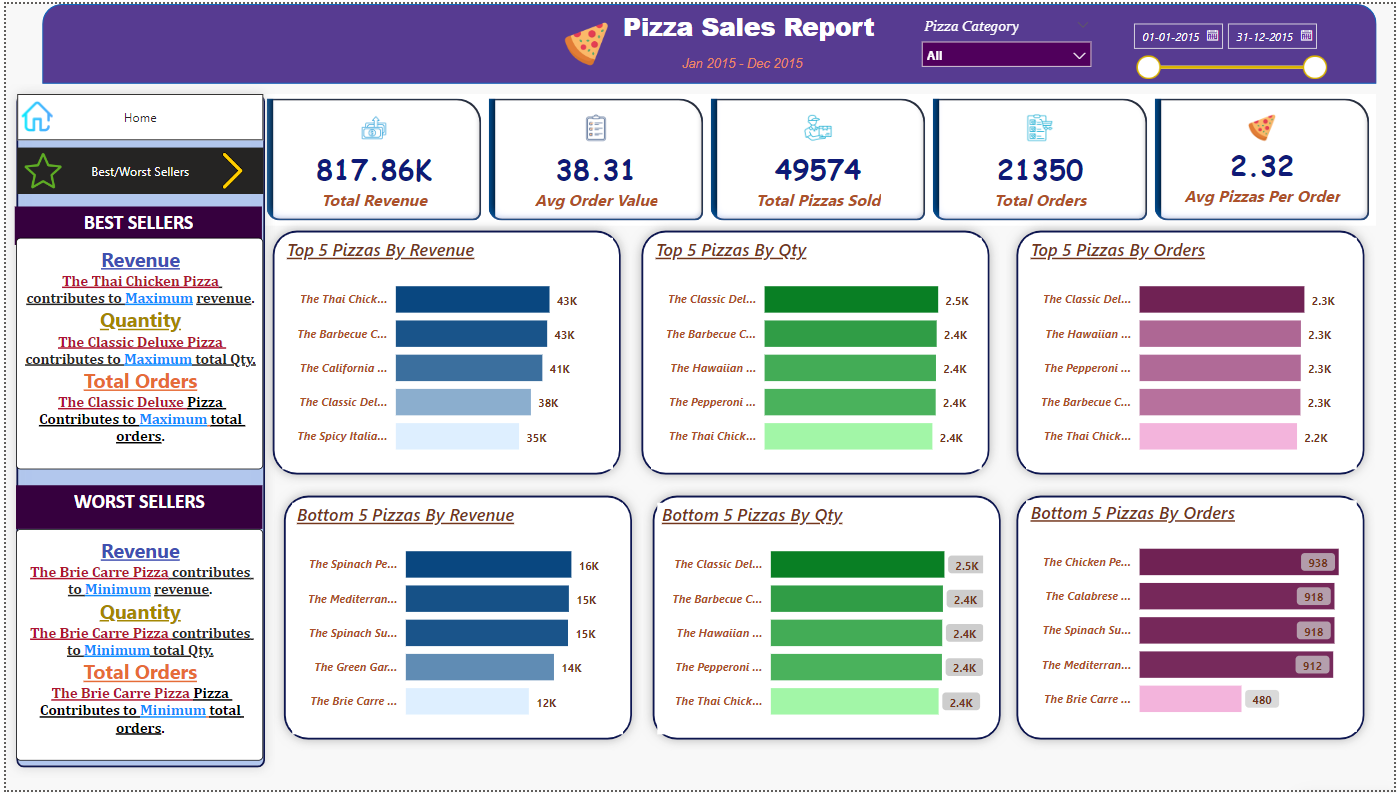

This screenshot's page, from the dashboard's own definition file:
{"tool":"powerbi","page":{"name":"Best/Worst Sellers","canvas":[1500,850],"ordinal":1},"visuals":[{"type":"cardVisual","fields":{"Data":["pizza_sales (1).Total Revenue","pizza_sales (1).Avg Order Value","pizza_sales (1).Total Pizzas Sold","pizza_sales (1).Total Orders","pizza_sales (1).Avg Pizzas Per Order"]},"box":[277.5,97.5,1203.8,142.5],"z":0},{"type":"shape","box":[38.8,0,1442.5,86.2],"z":1000},{"type":"textbox","box":[656.2,0,292.5,50],"z":2000},{"type":"textbox","box":[726.2,50,156.2,31.2],"z":3000},{"type":"image","box":[598.8,0,57.5,86.2],"z":4000},{"type":"shape","box":[277.5,233.8,398.8,286.2],"z":5000},{"type":"shape","box":[0,86.2,291.2,750],"z":6000},{"type":"textbox","box":[10,218.8,267.5,41.2],"z":7000},{"type":"textbox","box":[11.2,252.5,267.5,250],"z":8000},{"type":"textbox","box":[11.2,520,266.2,47.5],"z":9000},{"type":"slicer","fields":{"Values":["pizza_sales (1).order_date"]},"box":[1207.1,10.6,229.4,75.3],"z":10000},{"type":"slicer","fields":{"Values":["pizza_sales (1).pizza_category"]},"box":[979.4,10,203.5,85.9],"z":11000},{"type":"shape","box":[676.2,233.8,398.8,286.2],"z":12000},{"type":"shape","box":[1081.2,233.8,398.8,286.2],"z":13000},{"type":"shape","box":[687.5,520,398.8,286.2],"z":14000},{"type":"shape","box":[1081.2,520,398.8,286.2],"z":15000},{"type":"shape","box":[288.8,520,398.8,286.2],"z":16000},{"type":"barChart","title":"Top 5 Pizzas By Revenue ","fields":{"Category":["pizza_sales (1).pizza_name"],"Y":["pizza_sales (1).Total Revenue"]},"box":[298.8,252.5,357.5,250],"z":17000},{"type":"barChart","title":"Bottom 5 Pizzas By Revenue ","fields":{"Category":["pizza_sales (1).pizza_name"],"Y":["pizza_sales (1).Total Revenue"]},"box":[310,538.8,357.5,250],"z":18000},{"type":"barChart","title":"Top 5 Pizzas By Qty","fields":{"Category":["pizza_sales (1).pizza_name"],"Y":["Sum(pizza_sales (1).quantity)"]},"box":[697.5,252.5,357.5,250],"z":19000},{"type":"barChart","title":"Top 5 Pizzas By Orders","fields":{"Category":["pizza_sales (1).pizza_name"],"Y":["pizza_sales (1).Total Orders"]},"box":[1102.5,252.5,357.5,250],"z":20000},{"type":"barChart","title":"Bottom 5 Pizzas By Qty","fields":{"Category":["pizza_sales (1).pizza_name"],"Y":["Sum(pizza_sales (1).quantity)"]},"box":[703.8,538.8,357.5,250],"z":21000},{"type":"barChart","title":"Bottom 5 Pizzas By Orders","fields":{"Category":["pizza_sales (1).pizza_name"],"Y":["pizza_sales (1).Total Orders"]},"box":[1102.5,536.2,357.5,250],"z":22000},{"type":"textbox","box":[11.2,567.5,267,250],"z":23000},{"type":"pageNavigator","box":[12.5,97.5,266.2,50],"z":24000},{"type":"pageNavigator","box":[12.5,155,266.2,50],"z":25000},{"type":"image","box":[212.5,155,65,50],"z":26000},{"type":"image","box":[12.5,96.2,43.8,51.2],"z":27000},{"type":"image","box":[12.2,155.6,55.6,50],"z":28000}]}

Visuals, with their boxes in screenshot pixels (x1, y1, x2, y2), scaled from the page's 1500x850 canvas onto the 1397x793 screenshot:
cardVisual - pizza_sales (1).Total Revenue x pizza_sales (1).Avg Order Value: box(258, 91, 1380, 224)
shape: box(36, 0, 1380, 80)
textbox: box(611, 0, 884, 47)
textbox: box(676, 47, 822, 76)
image: box(558, 0, 611, 80)
shape: box(258, 218, 630, 485)
shape: box(0, 80, 271, 780)
textbox: box(9, 204, 258, 243)
textbox: box(10, 236, 260, 469)
textbox: box(10, 485, 258, 529)
slicer - pizza_sales (1).order_date: box(1124, 10, 1338, 80)
slicer - pizza_sales (1).pizza_category: box(912, 9, 1102, 89)
shape: box(630, 218, 1001, 485)
shape: box(1007, 218, 1378, 485)
shape: box(640, 485, 1012, 752)
shape: box(1007, 485, 1378, 752)
shape: box(269, 485, 640, 752)
"Top 5 Pizzas By Revenue " barChart: box(278, 236, 611, 469)
"Bottom 5 Pizzas By Revenue " barChart: box(289, 503, 622, 736)
"Top 5 Pizzas By Qty" barChart: box(650, 236, 983, 469)
"Top 5 Pizzas By Orders" barChart: box(1027, 236, 1360, 469)
"Bottom 5 Pizzas By Qty" barChart: box(655, 503, 988, 736)
"Bottom 5 Pizzas By Orders" barChart: box(1027, 500, 1360, 733)
textbox: box(10, 529, 259, 763)
pageNavigator: box(12, 91, 260, 138)
pageNavigator: box(12, 145, 260, 191)
image: box(198, 145, 258, 191)
image: box(12, 90, 52, 138)
image: box(11, 145, 63, 192)
